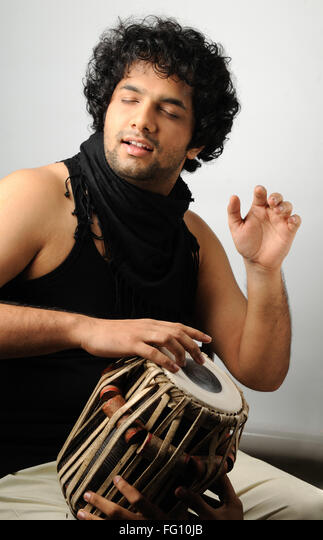tabla: (54, 344, 250, 518)
